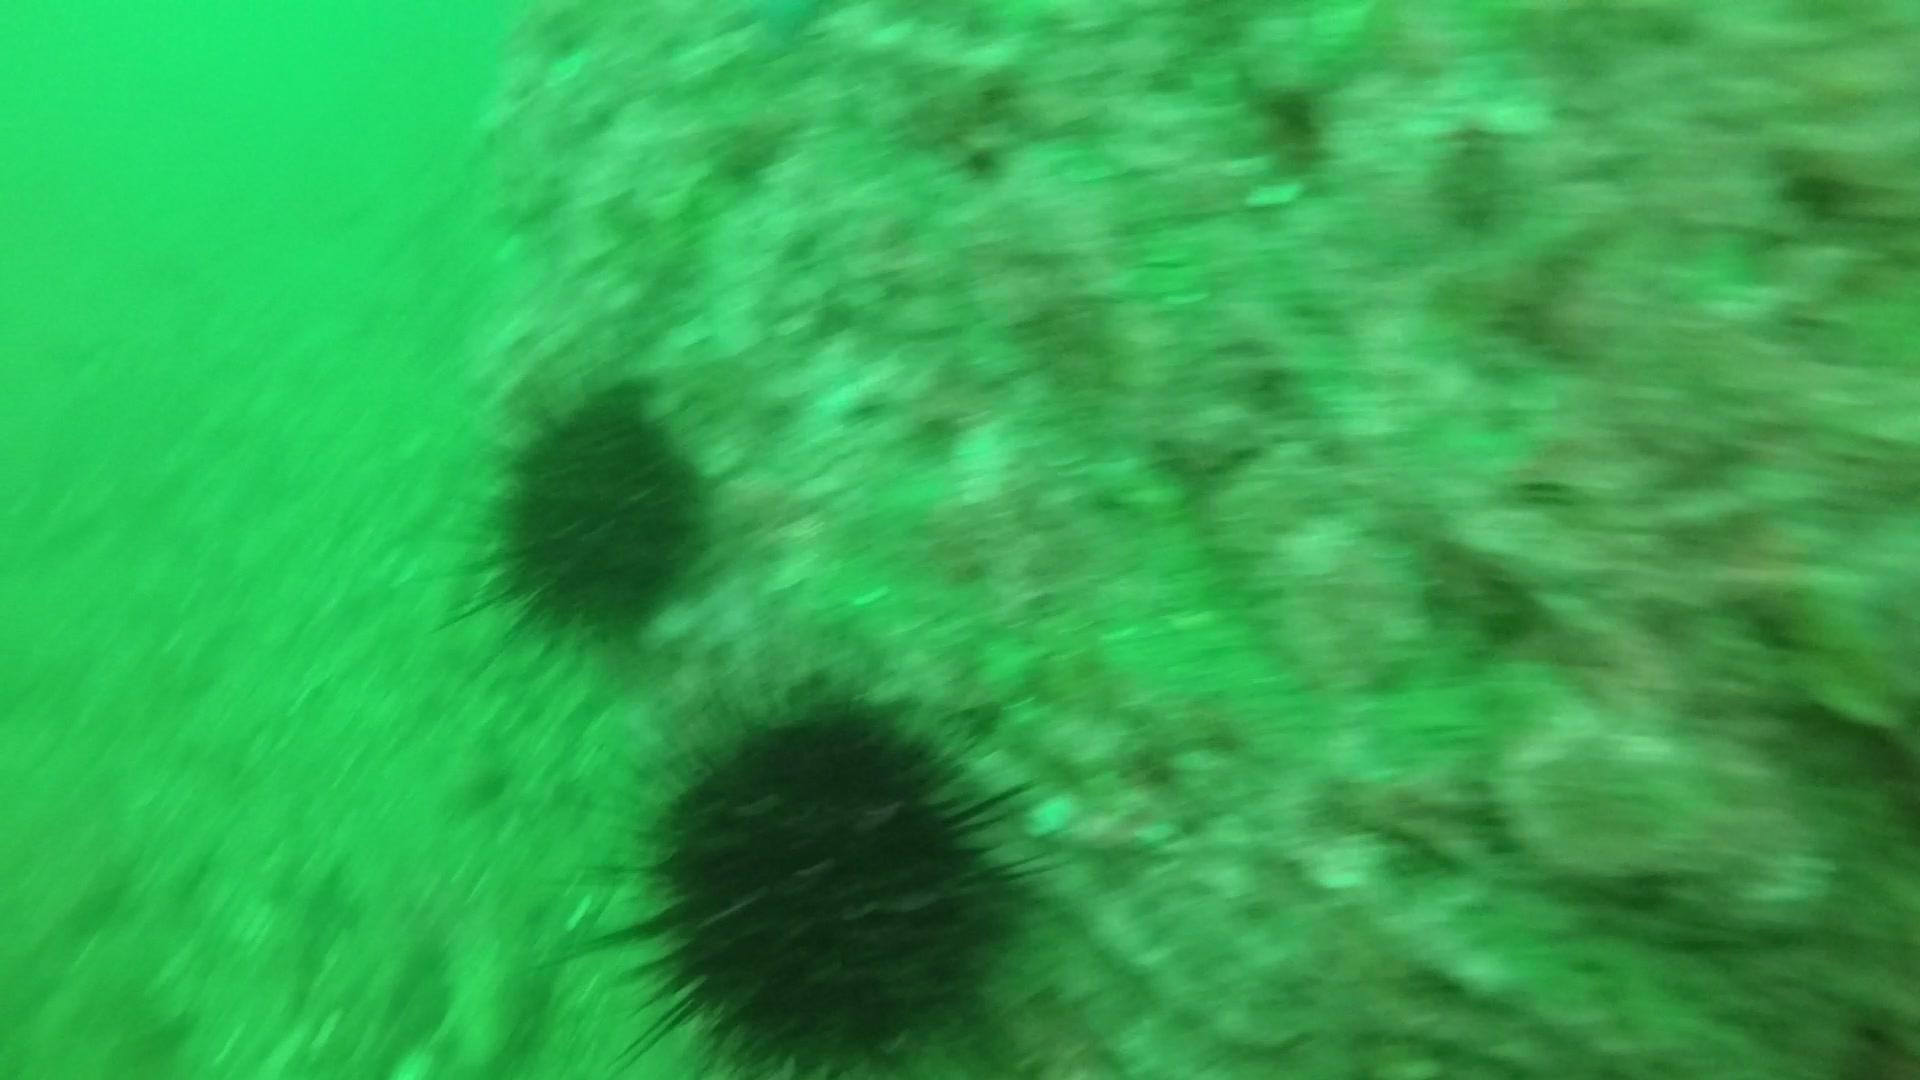urchin: (608, 700, 982, 1080), (454, 394, 698, 678)
